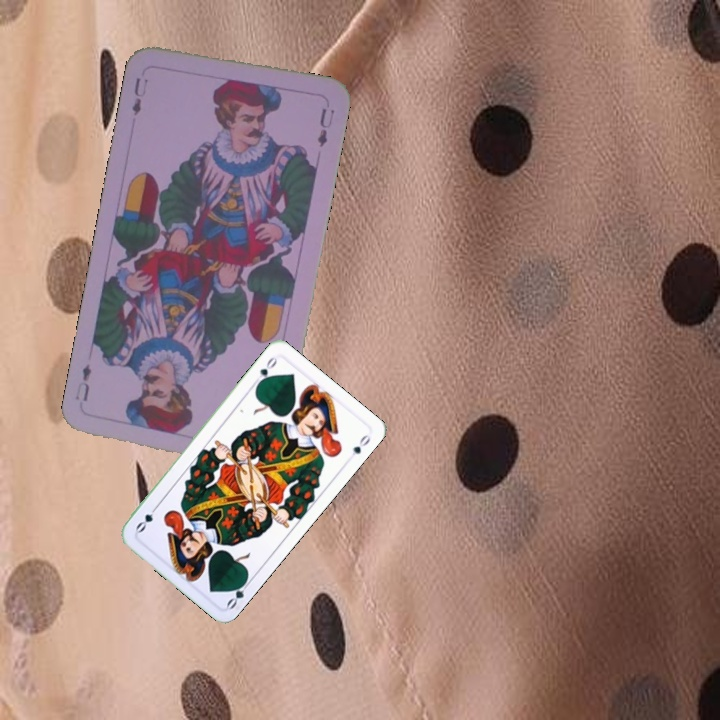EU: (127, 74, 150, 118)
GO: (223, 574, 254, 612), (249, 353, 280, 389)
